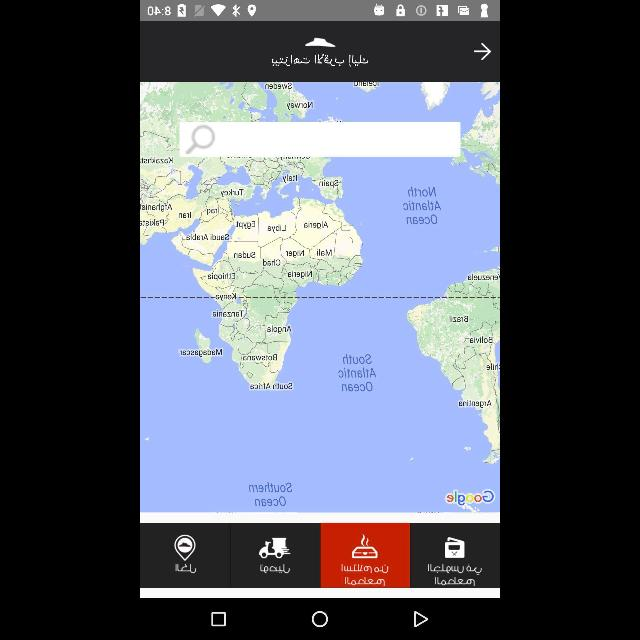icon: (256, 532, 292, 560), (170, 532, 202, 562), (350, 533, 380, 561), (442, 536, 468, 558), (471, 39, 494, 63), (302, 34, 338, 48), (312, 610, 328, 628), (211, 610, 227, 628), (412, 611, 428, 627)
map: (142, 82, 500, 512)
panel: (141, 600, 499, 638)
text: (268, 51, 376, 69), (426, 561, 482, 585), (338, 562, 392, 586), (255, 560, 293, 576), (171, 562, 203, 576)
uppertaskbar: (141, 1, 499, 20)
